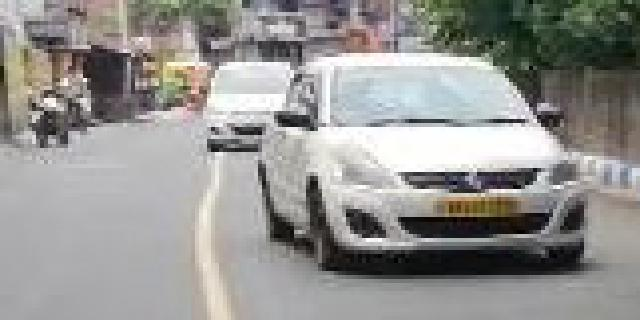Car: (257, 46, 590, 273), (200, 56, 283, 156)
